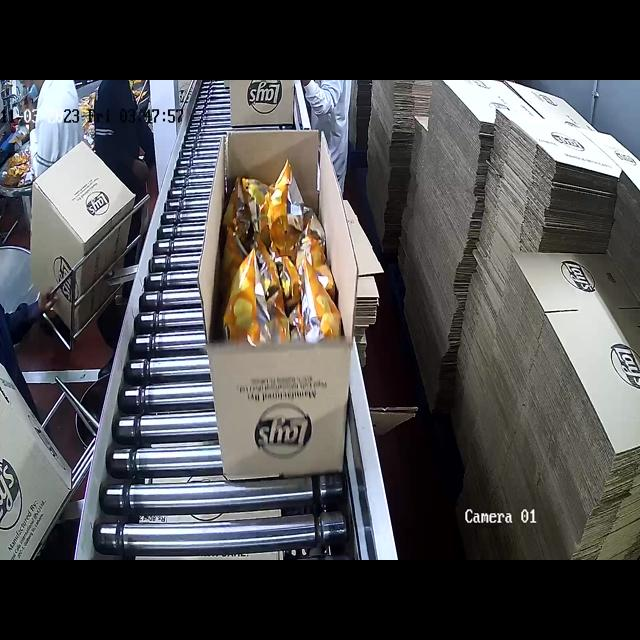cheese: (221, 171, 342, 351)
